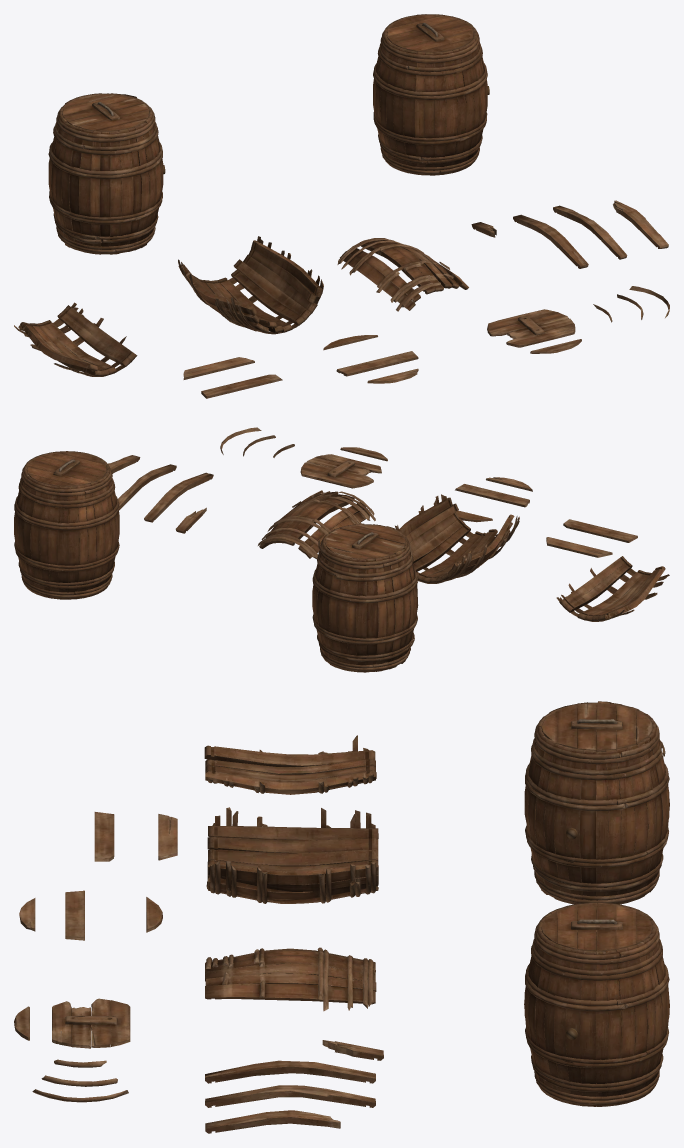
The model's file is wooden_barrels_01.glb.
3 renders of one model, top to bottom at view 1: azimuth 30°, elevation 25°; view 2: azimuth 150°, elevation 25°; view 3: azimuth 270°, elevation 25°, orthographic. The views are drawn at different scales.
Visible parts, largest first — view 1: wooden_barrels_01_piece01, wooden_barrels_01_barrel02, wooden_barrels_01_barrel01; view 2: wooden_barrels_01_piece01, wooden_barrels_01_barrel02, wooden_barrels_01_barrel01; view 3: wooden_barrels_01_piece01, wooden_barrels_01_barrel01, wooden_barrels_01_barrel02.
Part boxes in pixels (x1,y1,x2,y2): wooden_barrels_01_piece01: [14, 200, 669, 398]; wooden_barrels_01_barrel02: [48, 93, 165, 254]; wooden_barrels_01_barrel01: [373, 14, 489, 175]; wooden_barrels_01_piece01: [108, 427, 669, 621]; wooden_barrels_01_barrel02: [312, 523, 418, 672]; wooden_barrels_01_barrel01: [14, 451, 119, 599]; wooden_barrels_01_piece01: [14, 735, 383, 1133]; wooden_barrels_01_barrel01: [524, 902, 669, 1106]; wooden_barrels_01_barrel02: [524, 701, 669, 904].
Bounding box in the file's own units: 4.44 × 0.9529 × 3.34.
3 materials, 3 textured.
